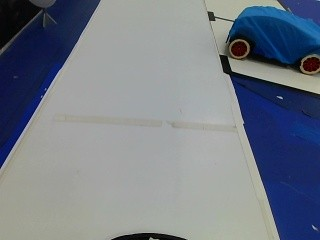car: (220, 4, 318, 73)
